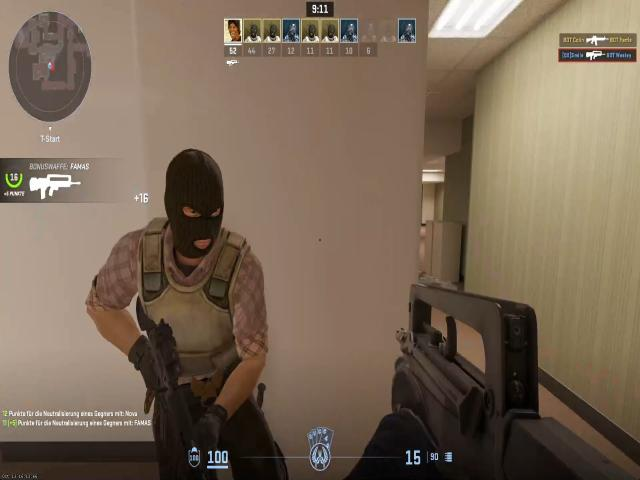T: (89, 138, 270, 461)
T-Head: (158, 143, 234, 276)
